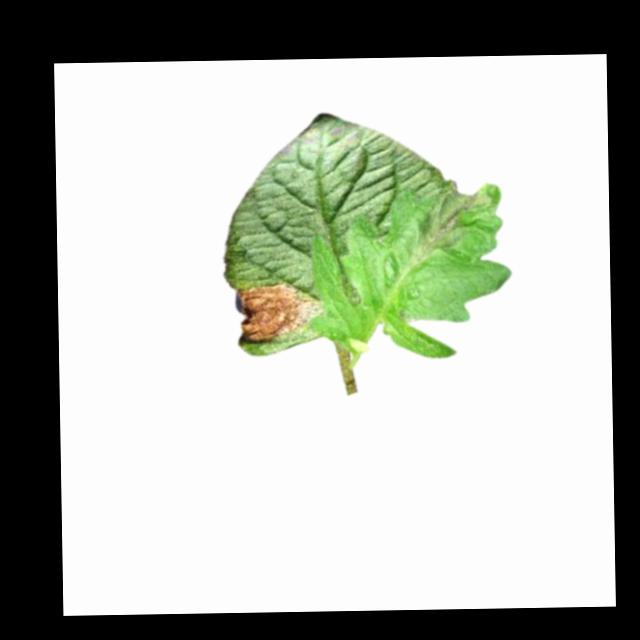Late_blight: (233, 281, 318, 345), (417, 185, 491, 254)
